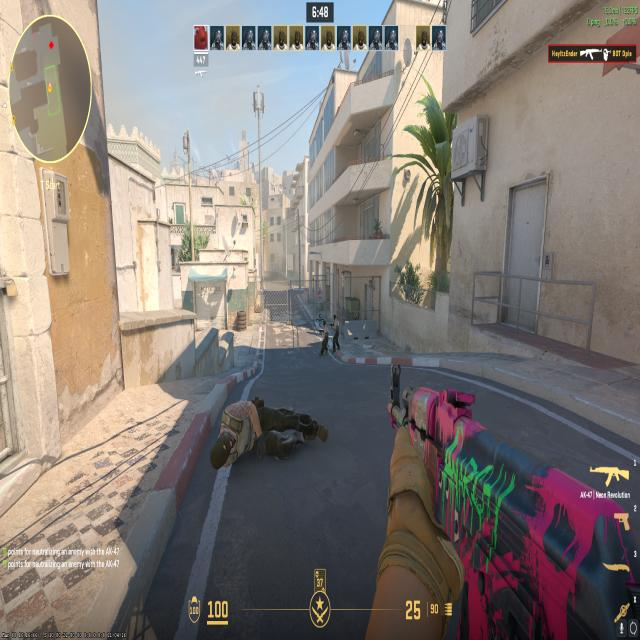t: (317, 316, 329, 357), (330, 312, 340, 352)
